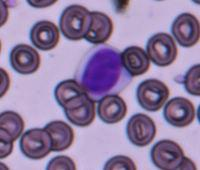L: (73, 42, 132, 100)
